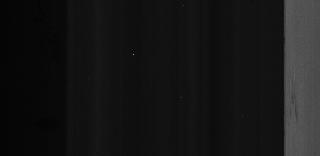silk spot: (288, 74, 308, 132)
